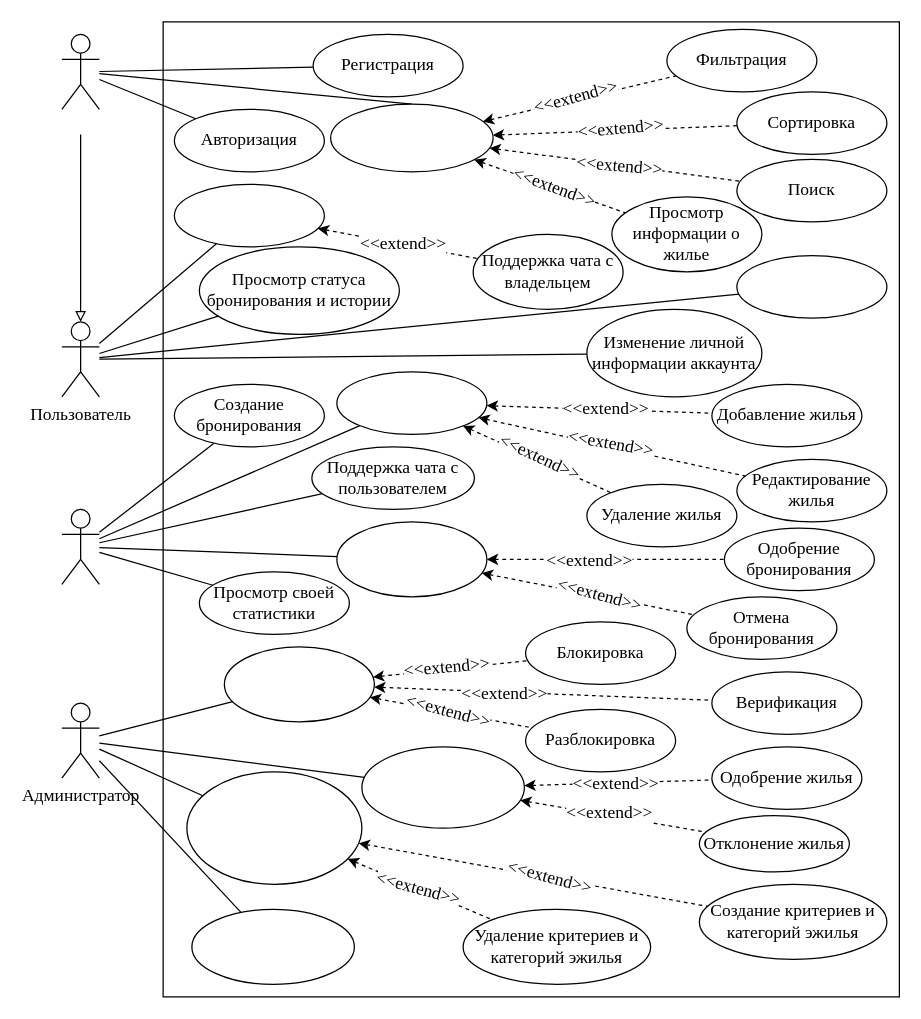
Some shapes in this 921 by 1019 pixel diagram are drawn without their labels. The shapes that lost their labels are listed below. From the top down, each one's centre as x and y in pixels, then its label:
the point at 80,71: Гость
the point at 411,137: Взаимодействие с каталогом жилья
the point at 248,215: Бронирование жилья
the point at 811,286: Написание отзыва
the point at 411,402: Управление жильем
the point at 80,546: Владелец
the point at 411,559: Управление статусом бронирования
the point at 298,684: Управление пользователями и владельцами
the point at 442,787: Управление запросами на создание жилья
the point at 274,827: Управление критериями и категориями жилья
the point at 272,946: Просмотр статистики сервиса
